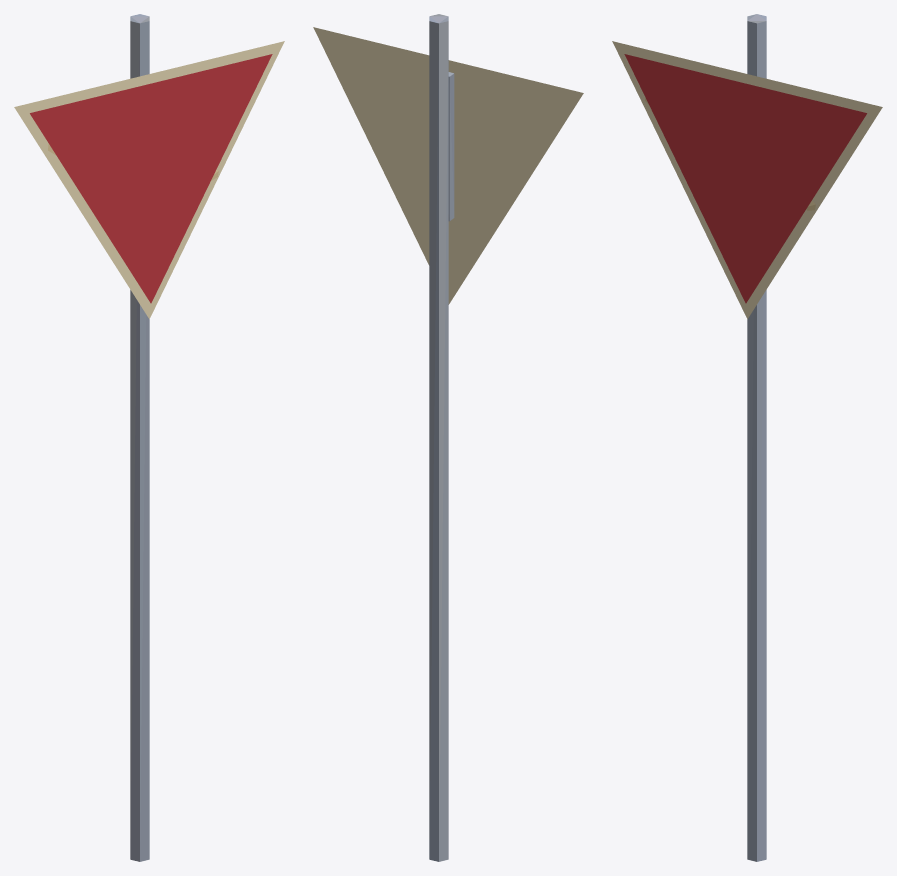
File: HK_Sign_Stop.glb
3 views of the same model, side by side, from view 1: azimuth 30°, elevation 25°; view 2: azimuth 150°, elevation 25°; view 3: azimuth 330°, elevation 25° (orthographic).
Parts seen in each view (by area): view 1: HK_Sign_Stop; view 2: HK_Sign_Stop; view 3: HK_Sign_Stop.
Boxes of the visible parts, x1,y1,x2,y2 form: HK_Sign_Stop: [14, 14, 284, 861]; HK_Sign_Stop: [313, 14, 583, 861]; HK_Sign_Stop: [612, 14, 882, 861].
Bounding box in the file's own units: 0.98 × 2.9 × 0.1003.
